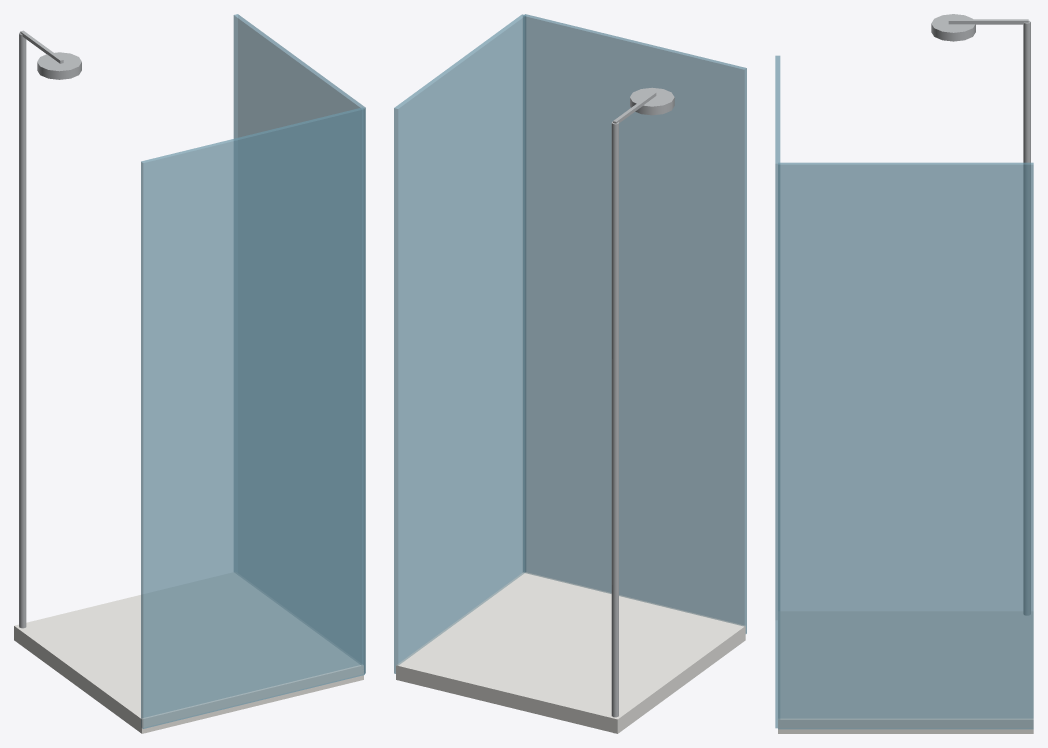
Rendered from shower.obj.
3 renders of one model, left to right at view 1: azimuth 30°, elevation 25°; view 2: azimuth 150°, elevation 25°; view 3: azimuth 270°, elevation 25°, orthographic.
Visible parts, largest first — view 1: shower_4, shower_5, shower_0, shower_1, shower_3; view 2: shower_4, shower_5, shower_0, shower_1, shower_3; view 3: shower_5, shower_0, shower_1, shower_4, shower_3, shower_2.
Boxes of the visible parts, x1,y1,x2,y2 form: shower_4: (141,107,364,728); shower_5: (233,14,365,673); shower_0: (14,572,363,733); shower_1: (19,32,26,628); shower_3: (37,52,81,79); shower_4: (523,14,746,633); shower_5: (394,14,525,673); shower_0: (396,572,745,733); shower_1: (611,121,618,717); shower_3: (630,87,674,115); shower_5: (778,162,1033,729); shower_0: (778,611,1033,733); shower_1: (1023,20,1030,615); shower_4: (775,55,780,728); shower_3: (931,14,975,41); shower_2: (948,19,1028,24).
Size of the model in its own units: 0.8575 by 2.11 by 0.8075.
